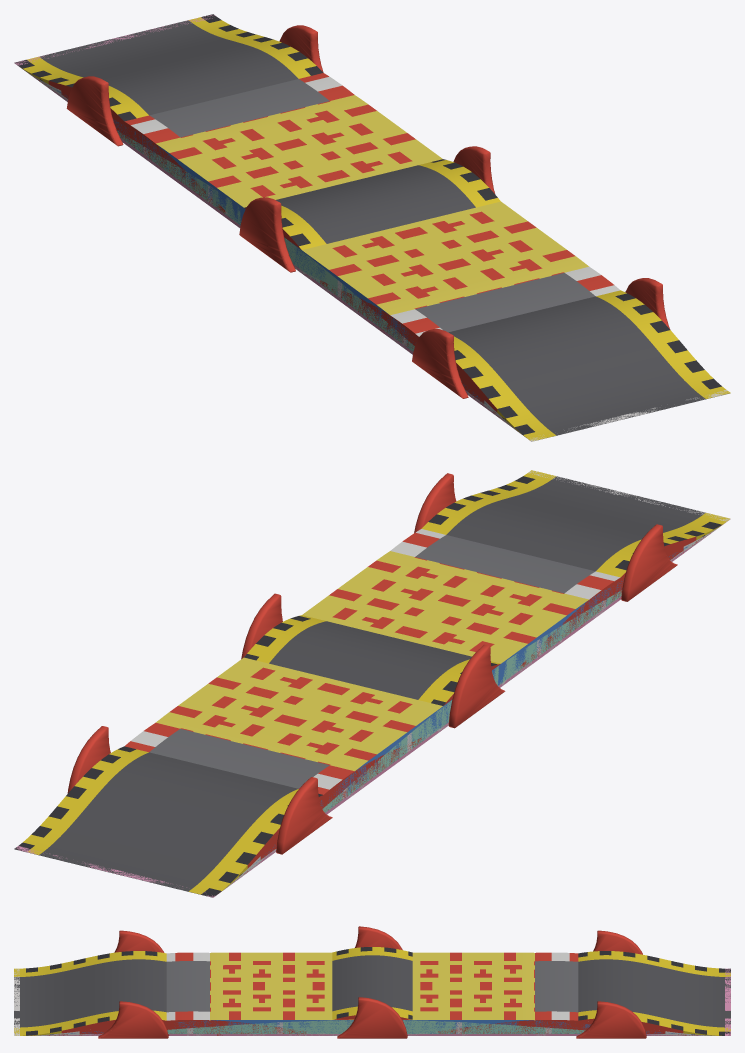
The model's file is ramps.glb.
3 views of the same model, one above another, from view 1: azimuth 30°, elevation 25°; view 2: azimuth 150°, elevation 25°; view 3: azimuth 270°, elevation 25° (orthographic). The views are drawn at different scales.
Visible parts, largest first — view 1: ramp_waves, ramp_table, ramp_racing, ramp_candy; view 2: ramp_waves, ramp_table, ramp_racing, ramp_candy; view 3: ramp_waves, ramp_table, ramp_racing, ramp_candy.
Boxes of the visible parts, <box> form: ramp_waves: <box>14,14,730,440</box>; ramp_table: <box>34,77,588,418</box>; ramp_racing: <box>22,69,642,432</box>; ramp_candy: <box>14,15,728,441</box>; ramp_waves: <box>14,470,729,897</box>; ramp_table: <box>156,533,710,881</box>; ramp_racing: <box>125,486,718,890</box>; ramp_candy: <box>15,470,730,897</box>; ramp_waves: <box>14,926,730,1038</box>; ramp_table: <box>31,952,697,1035</box>; ramp_racing: <box>15,952,715,1035</box>; ramp_candy: <box>14,968,730,1035</box>.
Size of the model in its own units: 4.36 by 1.1 by 18.
